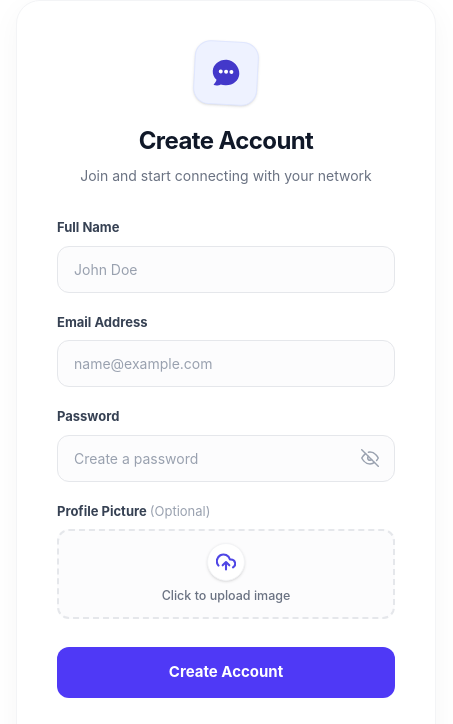
Test: SignupForm › should display error message when registration fails
The image size is (453, 724).
Type "Test User" into the field labelled "Full Name".
click(226, 269); type("Test User")  # box [57, 246, 395, 292]
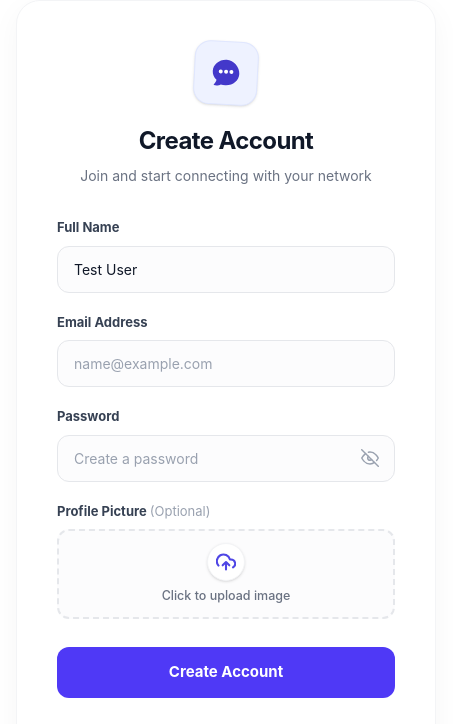
Type "existing@gmail.com" into the field labelled "Email Address".
click(226, 364); type("existing@gmail.com")  # box [57, 340, 395, 387]
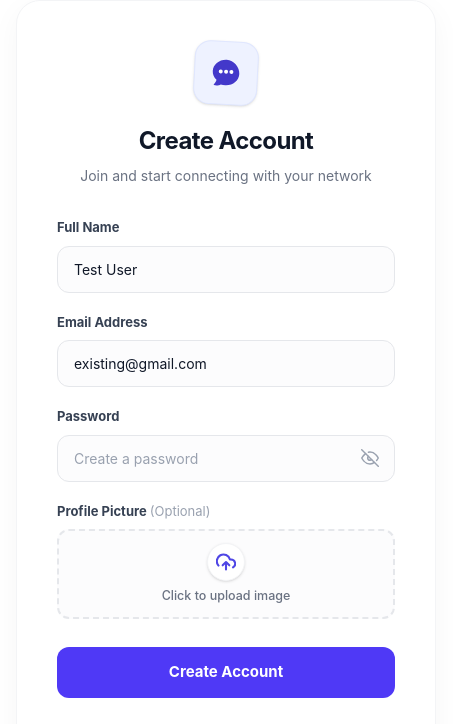
Type "1234" into the password field labelled "Password".
click(226, 458); type("1234")  # box [57, 434, 395, 482]
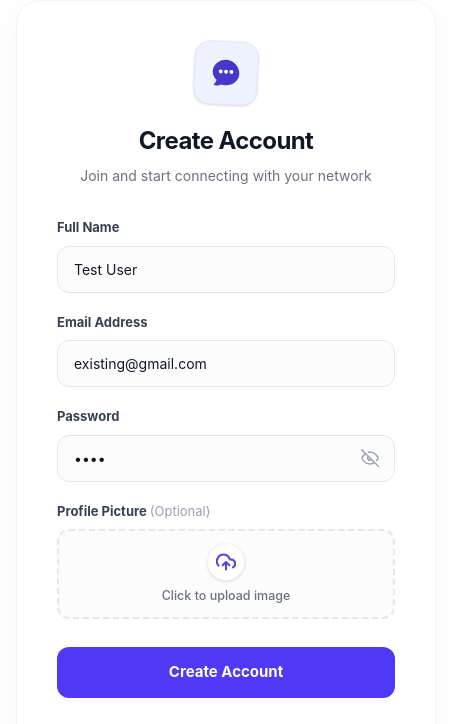
Click the button "Create Account".
click(226, 672)  # box [57, 647, 395, 698]
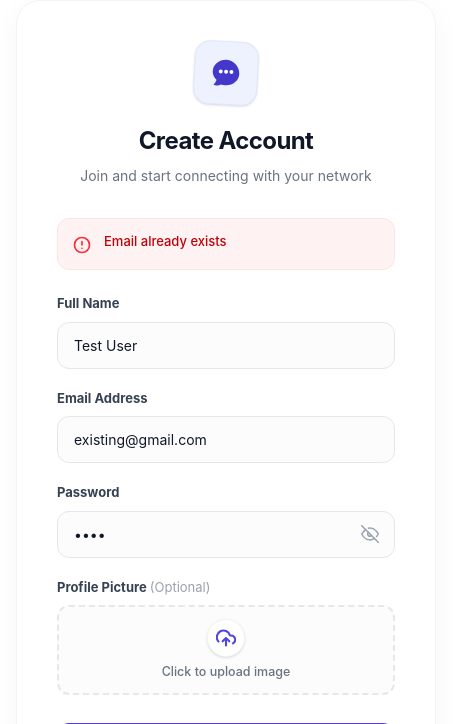
Result: the text "Email already exists" is shown at [104, 233, 227, 249]
